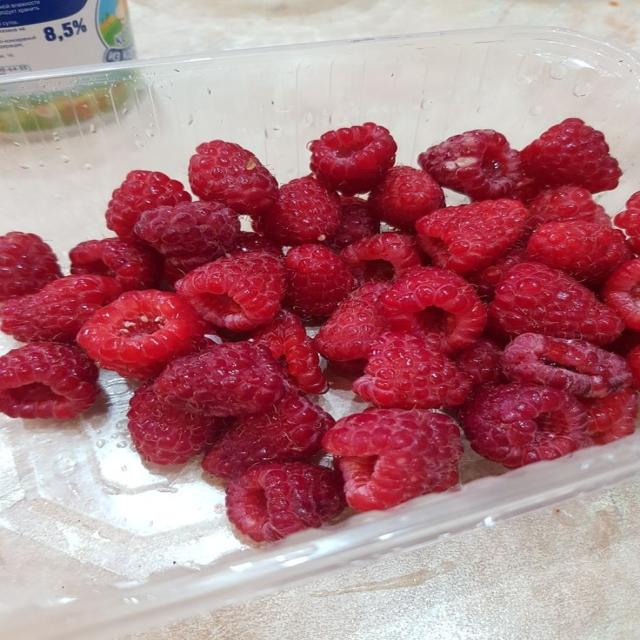raspberry: (324, 409, 462, 510), (78, 290, 206, 380), (202, 394, 334, 478), (488, 263, 624, 344), (460, 384, 588, 468), (154, 342, 287, 416), (227, 462, 345, 542), (380, 267, 486, 353), (354, 332, 471, 409), (176, 252, 285, 331), (416, 199, 528, 274), (0, 275, 121, 343), (501, 334, 631, 397), (128, 385, 222, 465), (520, 119, 621, 193), (0, 343, 98, 418), (134, 202, 239, 272), (419, 130, 521, 199), (527, 220, 632, 285), (189, 140, 277, 214), (309, 122, 397, 195), (254, 310, 328, 394), (106, 170, 191, 239), (254, 177, 339, 245), (314, 283, 387, 361), (285, 244, 355, 318), (368, 166, 444, 230), (69, 238, 159, 290), (0, 232, 61, 301), (340, 233, 422, 281), (466, 241, 528, 300), (528, 185, 611, 228), (582, 389, 638, 444), (327, 197, 379, 251), (602, 258, 639, 330), (456, 338, 505, 385), (614, 192, 639, 252), (228, 231, 281, 257), (509, 176, 544, 204), (607, 329, 639, 356), (327, 359, 366, 380), (627, 346, 639, 389)
